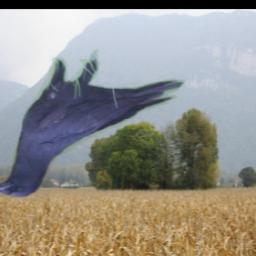Crow: (0, 45, 185, 200)
